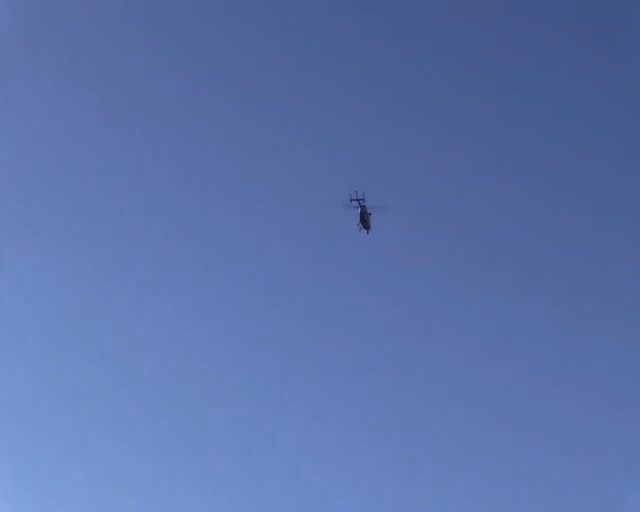HELICOPTER: (344, 188, 389, 234)
